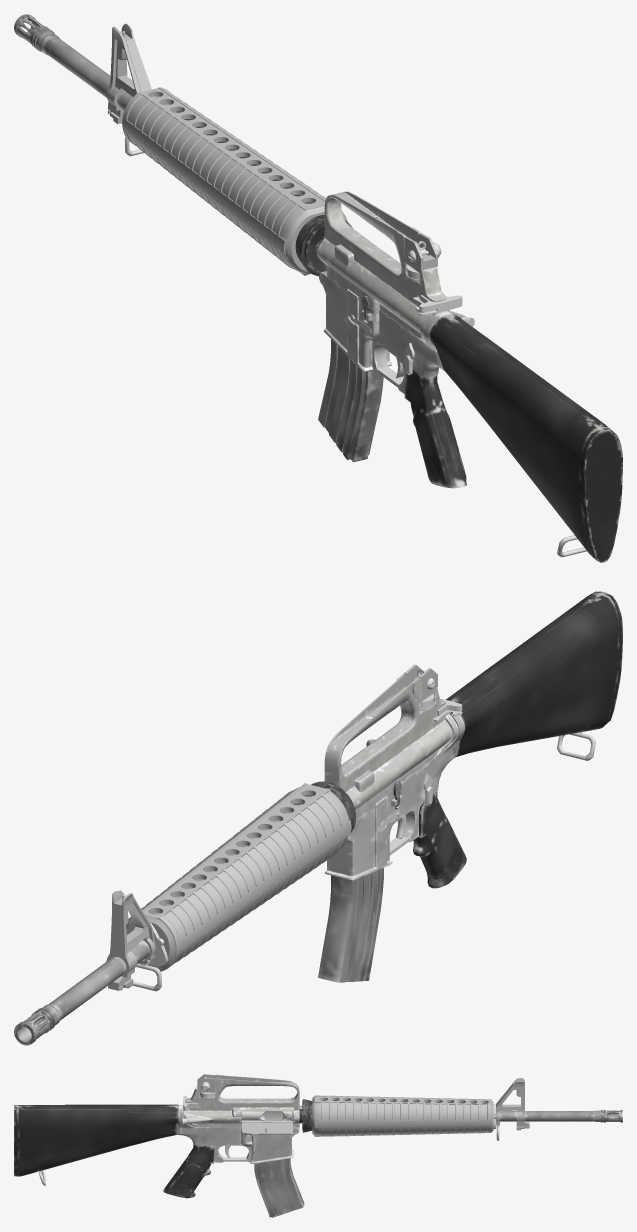
The picture shows the model from 3 angles, top to bottom: view 1: azimuth 30°, elevation 25°; view 2: azimuth 150°, elevation 25°; view 3: azimuth 270°, elevation 25°; orthographic projection. The views are drawn at different scales.
Parts seen in each view (by area): view 1: Stock, HandGuard, Upper, Lower, Magazine, HandGrip, FrontSight, Barrel, HGcoverB, MuzzleFlash, BackSightBase; view 2: Stock, HandGuard, Upper, Magazine, Lower, HandGrip, FrontSight, Barrel, MuzzleFlash; view 3: Stock, HandGuard, Upper, Lower, Magazine, HandGrip, Barrel, FrontSight, DustCOver, Bolt, HGcoverB, MuzzleFlash (+1 smaller).
Boxes of the visible parts, left/top/right/bottom form: Stock: left=429, top=314, right=622, bottom=562; HandGuard: left=122, top=87, right=347, bottom=275; Upper: left=317, top=191, right=465, bottom=341; Lower: left=319, top=271, right=454, bottom=393; Magazine: left=318, top=339, right=383, bottom=462; HandGrip: left=404, top=369, right=466, bottom=488; FrontSight: left=106, top=23, right=151, bottom=123; Barrel: left=42, top=35, right=132, bottom=110; HGcoverB: left=295, top=214, right=352, bottom=276; MuzzleFlash: left=14, top=14, right=59, bottom=54; BackSightBase: left=404, top=233, right=437, bottom=270; Stock: left=446, top=591, right=622, bottom=756; HandGuard: left=126, top=783, right=351, bottom=971; Upper: left=324, top=674, right=458, bottom=821; Magazine: left=318, top=867, right=383, bottom=982; Lower: left=325, top=714, right=464, bottom=880; HandGrip: left=413, top=791, right=466, bottom=888; FrontSight: left=106, top=890, right=155, bottom=990; Barrel: left=49, top=940, right=149, bottom=1020; MuzzleFlash: left=14, top=1004, right=60, bottom=1045; Stock: left=14, top=1104, right=178, bottom=1176; HandGuard: left=312, top=1095, right=493, bottom=1136; Upper: left=184, top=1074, right=299, bottom=1128; Lower: left=176, top=1105, right=299, bottom=1163; Magazine: left=254, top=1158, right=304, bottom=1217; HandGrip: left=163, top=1145, right=214, bottom=1198; Barrel: left=242, top=1111, right=594, bottom=1121; FrontSight: left=496, top=1078, right=529, bottom=1130; DustCOver: left=242, top=1121, right=292, bottom=1132; Bolt: left=242, top=1111, right=292, bottom=1120; HGcoverB: left=299, top=1099, right=312, bottom=1132; MuzzleFlash: left=594, top=1110, right=622, bottom=1122.
Size of the model in its own units: 6.76 by 25.33 by 100.
